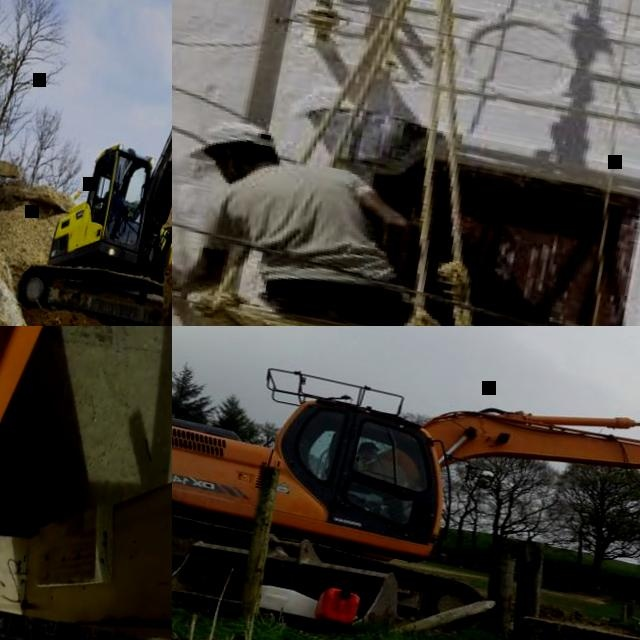Hardhat: (198, 112, 288, 168)
NO-Hardhat: (359, 440, 381, 452)
NO-Mask: (215, 155, 246, 185)
NO-Safety Vest: (236, 154, 417, 302)
Person: (172, 108, 577, 326), (342, 438, 420, 526), (101, 181, 122, 215)
machinery: (172, 326, 640, 640), (4, 0, 172, 326)
